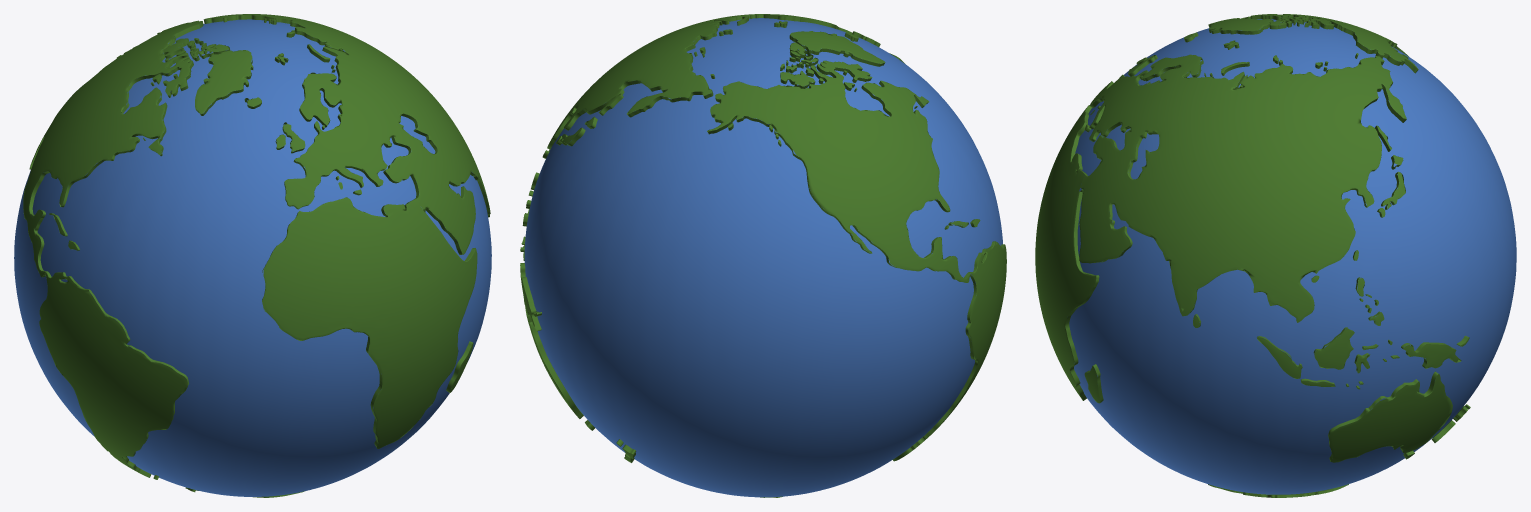
3 renders of one model, left to right at view 1: azimuth 30°, elevation 25°; view 2: azimuth 150°, elevation 25°; view 3: azimuth 270°, elevation 25°, orthographic.
Visible parts, largest first — view 1: default_procedural_mesh_sphere#0_remesh, RootNode_remesh; view 2: default_procedural_mesh_sphere#0_remesh, RootNode_remesh; view 3: default_procedural_mesh_sphere#0_remesh, RootNode_remesh.
Part boxes in pixels (bbox=[...]): default_procedural_mesh_sphere#0_remesh: bbox=[14, 19, 491, 496]; RootNode_remesh: bbox=[23, 14, 490, 497]; default_procedural_mesh_sphere#0_remesh: bbox=[524, 18, 1002, 497]; RootNode_remesh: bbox=[520, 14, 1006, 497]; default_procedural_mesh_sphere#0_remesh: bbox=[1069, 19, 1516, 494]; RootNode_remesh: bbox=[1035, 14, 1470, 497].
Size of the model in its own units: 39.92 by 39.9 by 39.77.
